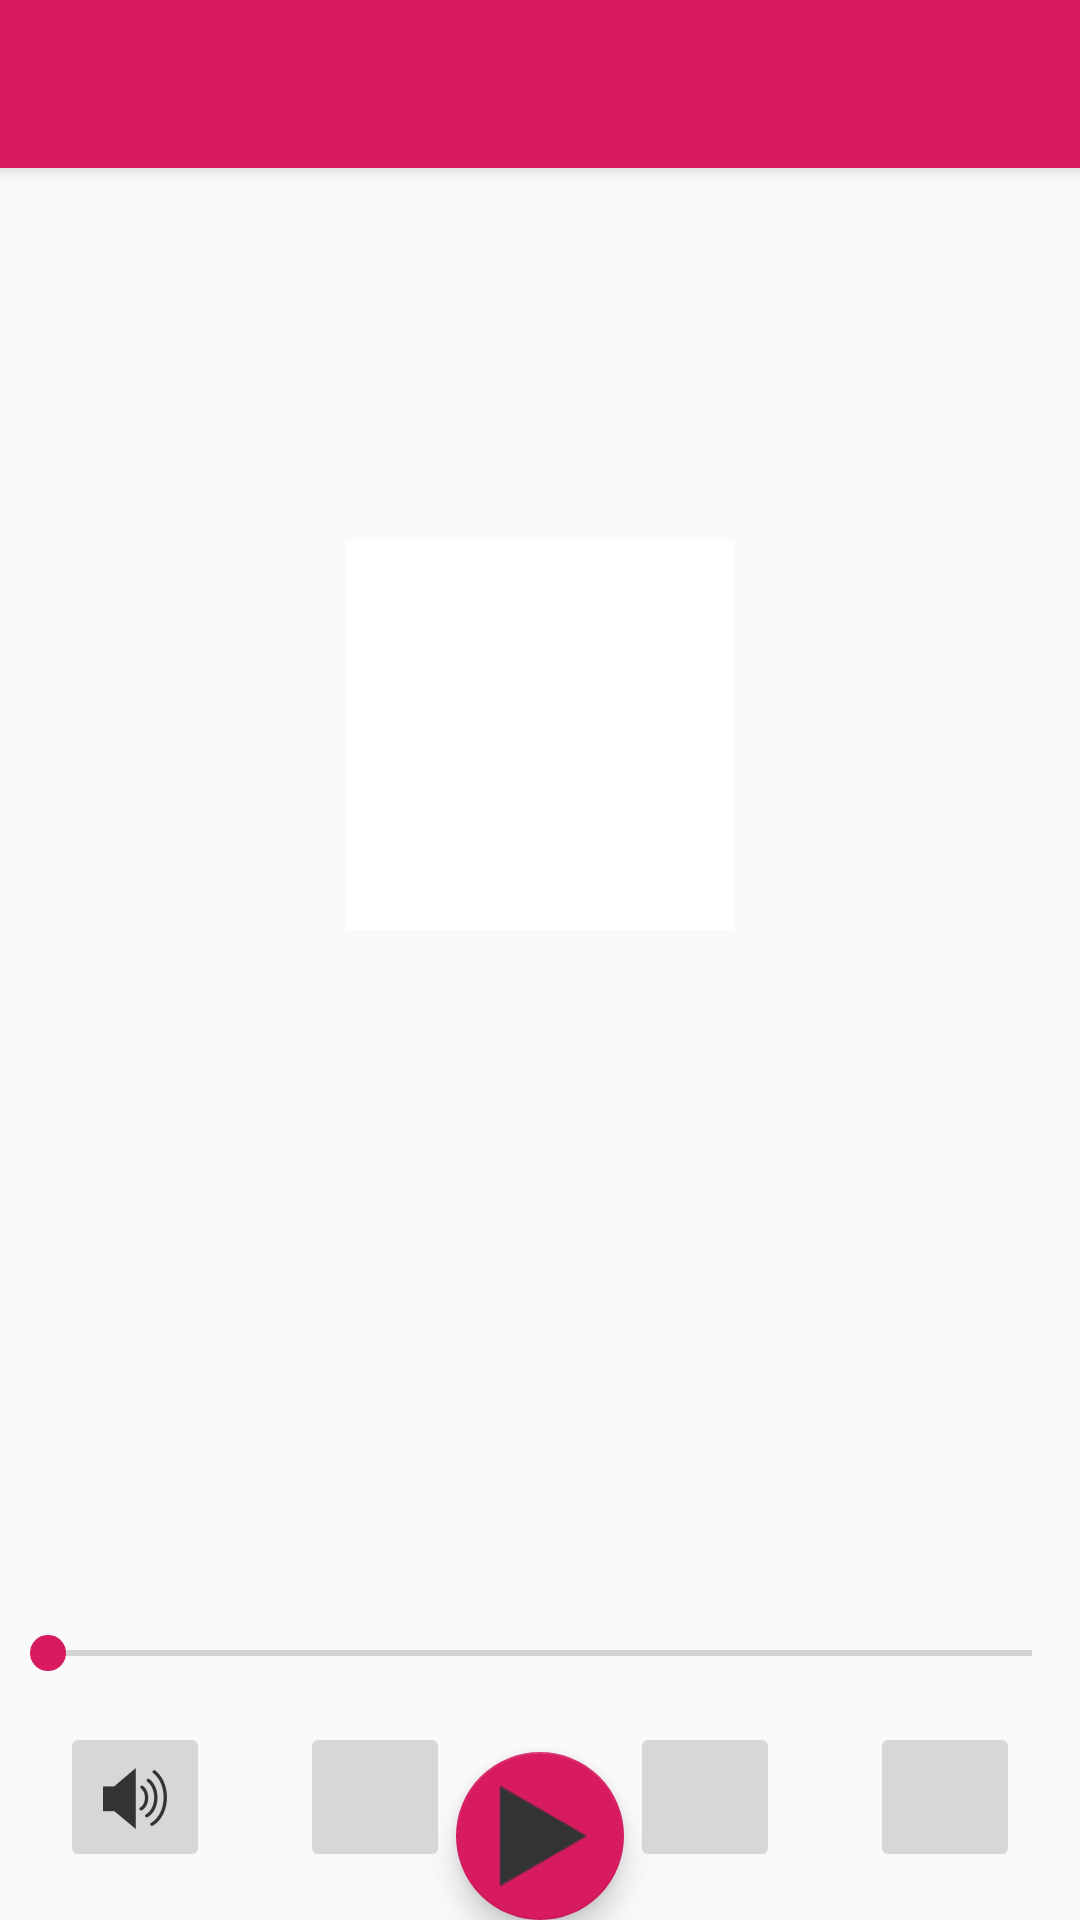

Icons on this 1080*1920 Android screen, each with the point to tap as (x,y):
play: (540,1836)
speaker: (135,1797)
